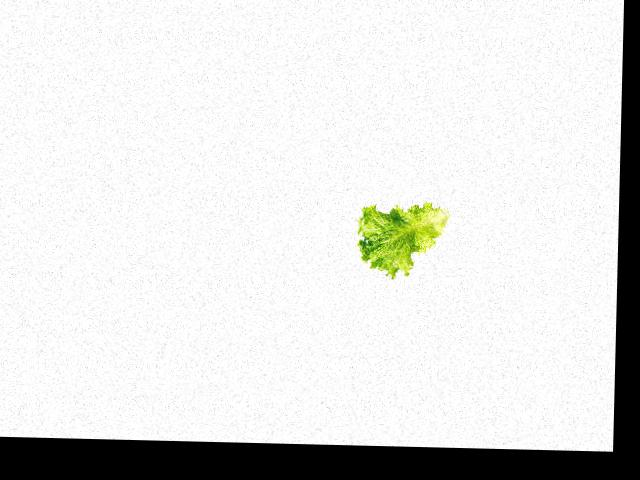lettuce: (356, 204, 451, 279)
